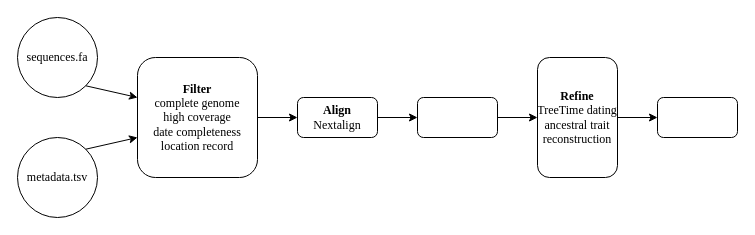
The diagram is 755 pixels wide and 235 high, and some of its shapes have lost their labels. Here are the shapes that lost their labels. From the top down, the centre of each, then its label:
At pixel 457 117: "Tree IQ-TREE".
At pixel 697 117: "Transmission Count".
